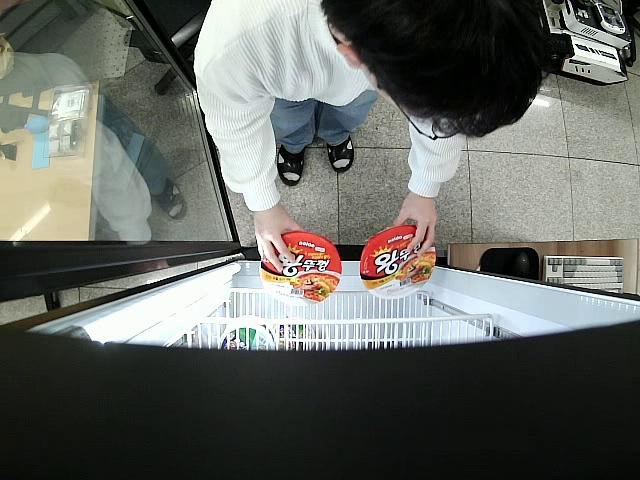00_hand: (254, 211, 307, 273), (393, 196, 436, 260)
10_wangTtukkeong: (259, 233, 342, 309), (359, 225, 436, 299)
